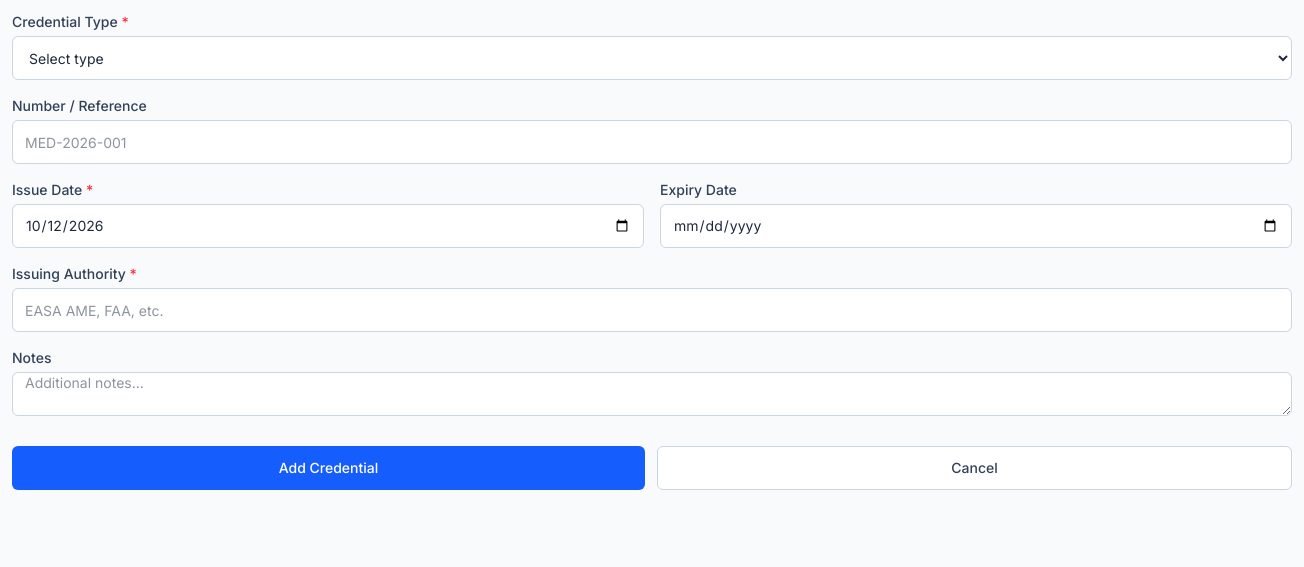
Scenario: CredentialForm › validates required fields
# Clear issue date (has default)
Clear the date field labelled "Issue Date *": x=328, y=226 [12, 204, 644, 248]
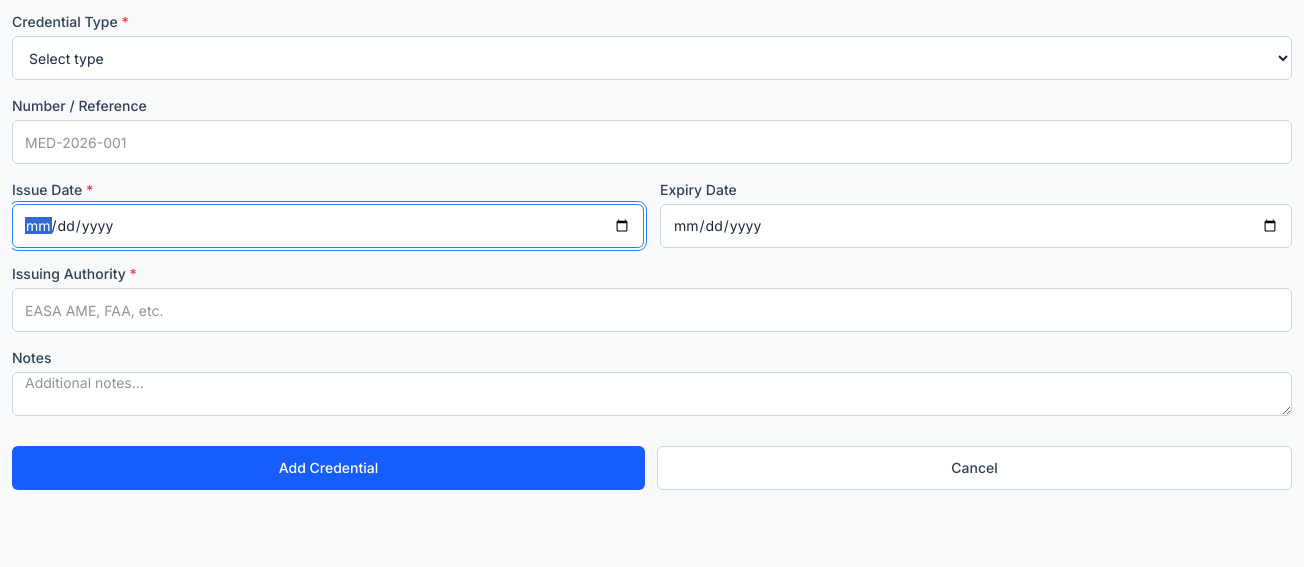
Submit the form named "add credential"
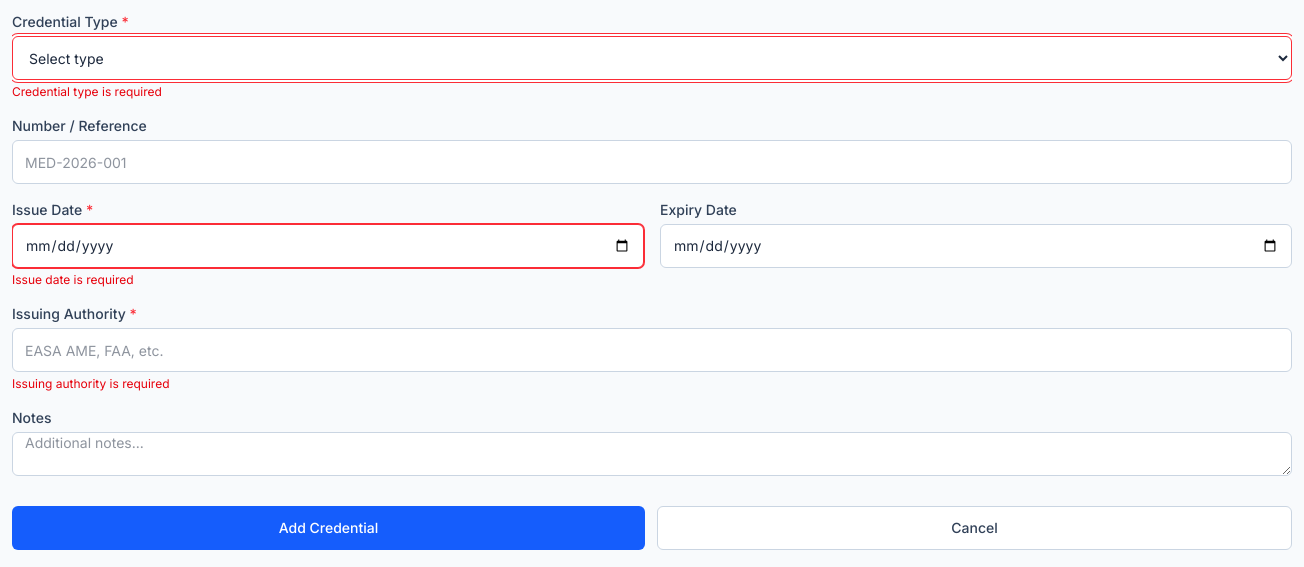
Now the text "Credential type is required" is shown, box [12, 84, 162, 99]
